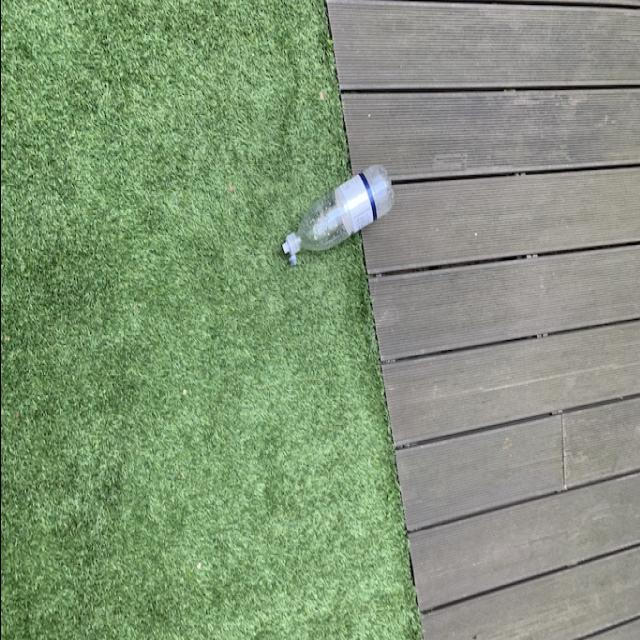PET: (276, 162, 392, 270)
